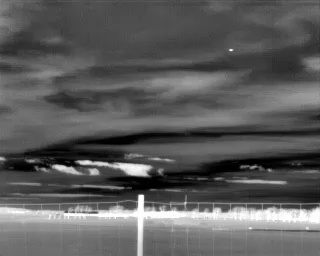AIRPLANE: (227, 46, 235, 54)
